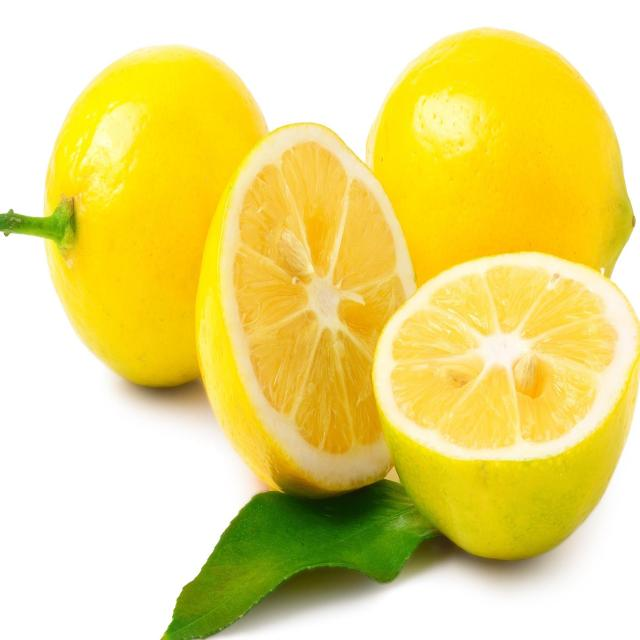lemon: (366, 243, 640, 563)
